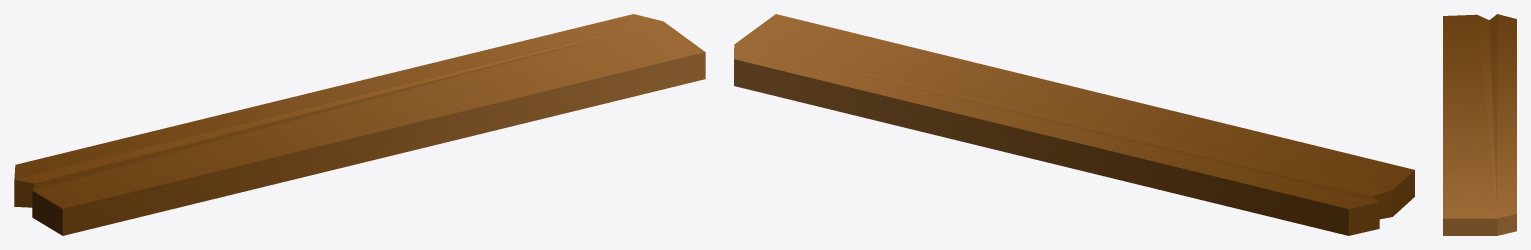
Rendered from Wood_Plank_C.fbx.
The picture shows the model from 3 angles, left to right: view 1: azimuth 30°, elevation 25°; view 2: azimuth 150°, elevation 25°; view 3: azimuth 270°, elevation 25°; orthographic projection. The views are drawn at different scales.
Visible parts, largest first — view 1: Wood_Plank_C; view 2: Wood_Plank_C; view 3: Wood_Plank_C.
Boxes of the visible parts, x1=… form: Wood_Plank_C: x1=14, y1=14, x2=705, y2=235; Wood_Plank_C: x1=734, y1=14, x2=1414, y2=235; Wood_Plank_C: x1=1443, y1=14, x2=1516, y2=235.
Bounding box in the file's own units: 173 × 6.87 × 26.3.
